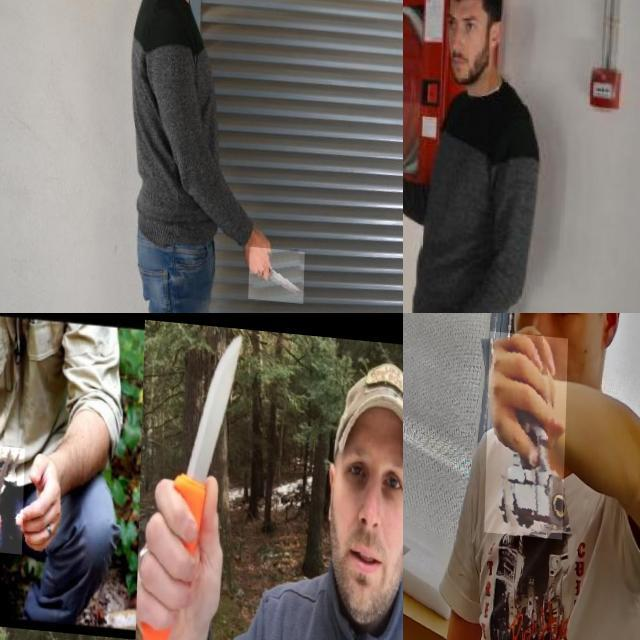-: (137, 320, 252, 636), (0, 439, 35, 550), (252, 240, 308, 296), (403, 112, 418, 212)
gun-knife-thesis - v11 Yolov5 augmented: (486, 326, 570, 532)
